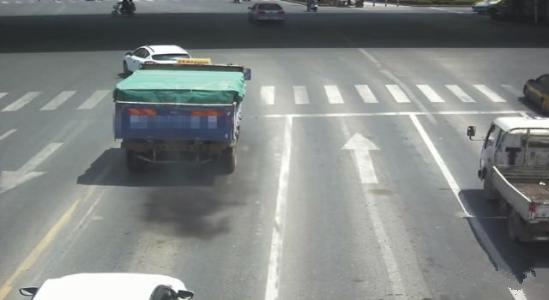smoke: (143, 161, 246, 238)
